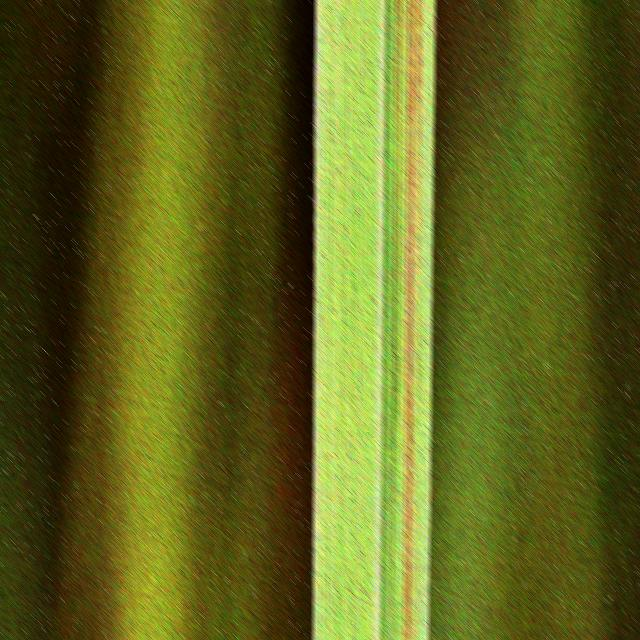BLS: (402, 0, 423, 640), (391, 0, 402, 454), (414, 481, 418, 640)
